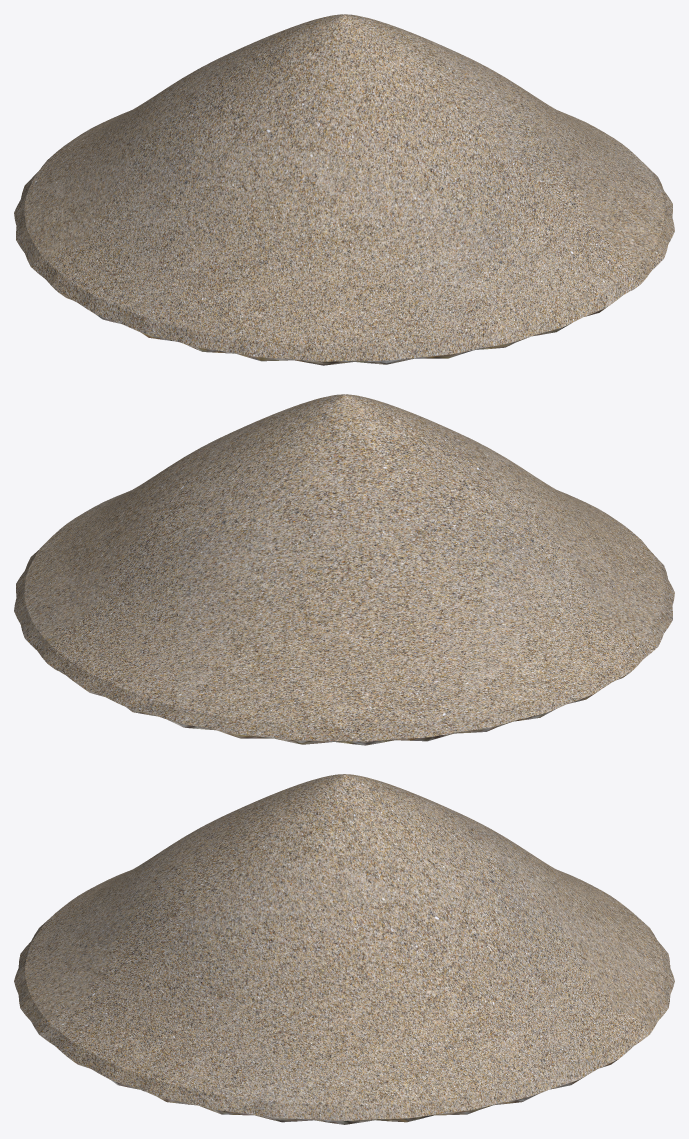
The model's file is Sand.fbx.
The picture shows the model from 3 angles, top to bottom: view 1: azimuth 30°, elevation 25°; view 2: azimuth 150°, elevation 25°; view 3: azimuth 270°, elevation 25°; orthographic projection.
Visible parts, largest first — view 1: Cone; view 2: Cone; view 3: Cone.
Part boxes in pixels (box(x1,y1,x2,y2)): Cone: box(14, 14, 674, 365); Cone: box(14, 394, 674, 745); Cone: box(14, 774, 674, 1124).
Bounding box in the file's own units: 29.18 × 11.68 × 29.18.
